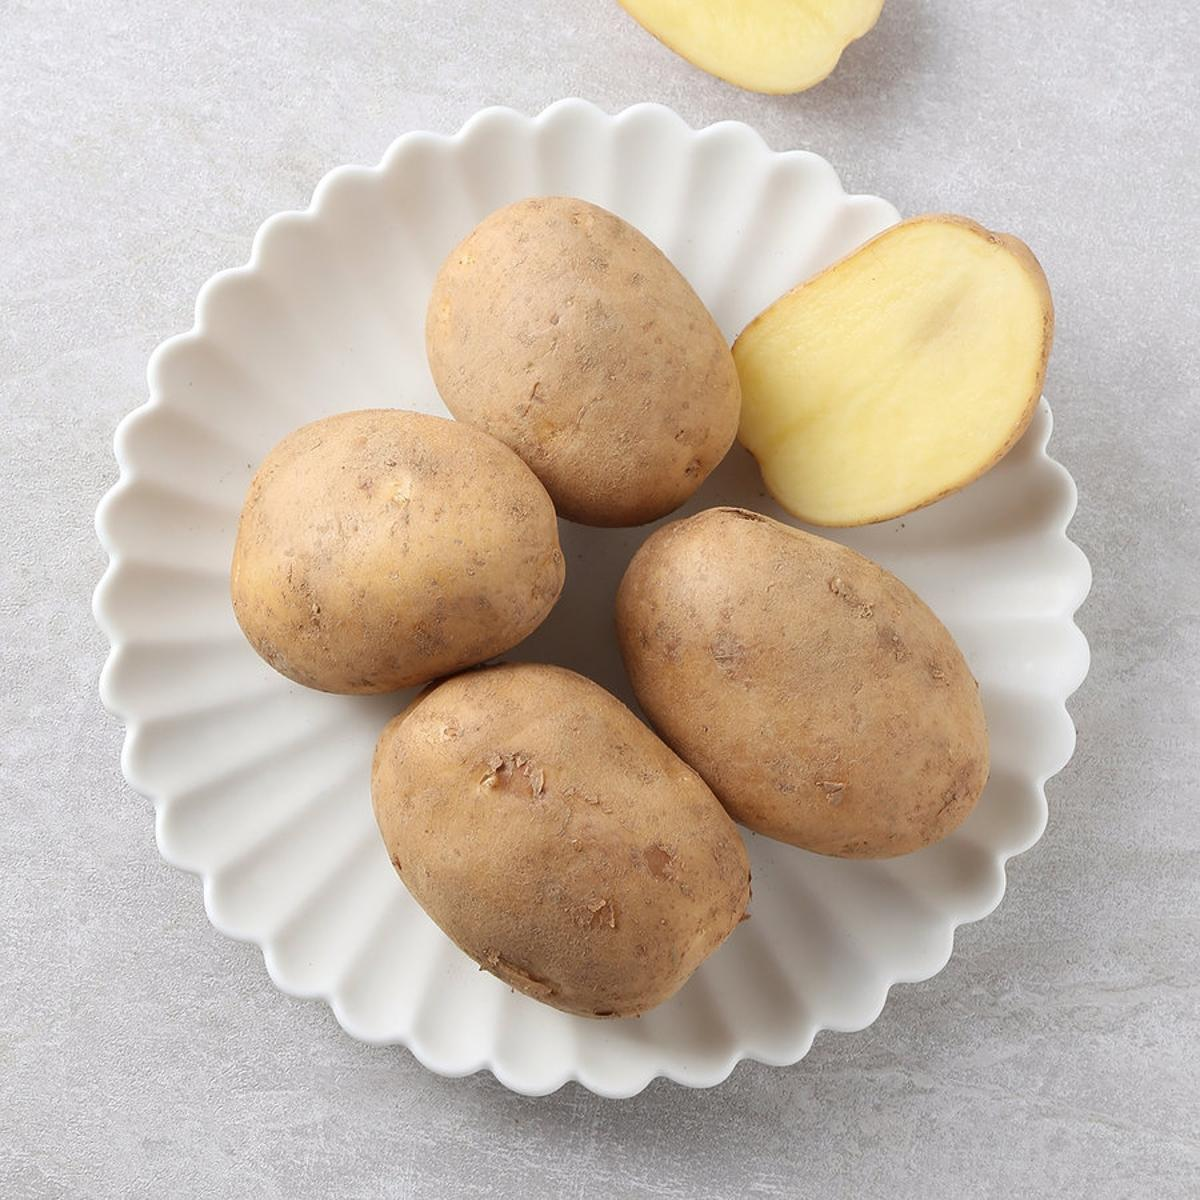potato: (388, 748, 1063, 1200), (870, 369, 1200, 921), (707, 882, 1200, 1200), (862, 875, 1200, 1200)
